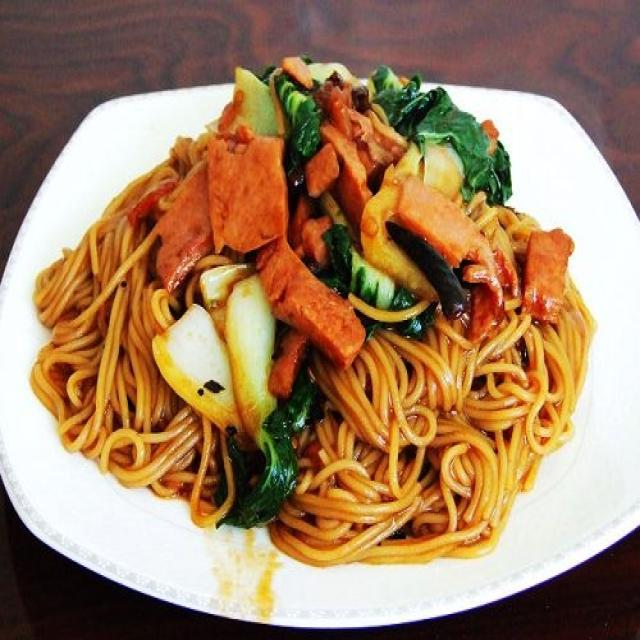面条主食: (29, 36, 612, 604)
